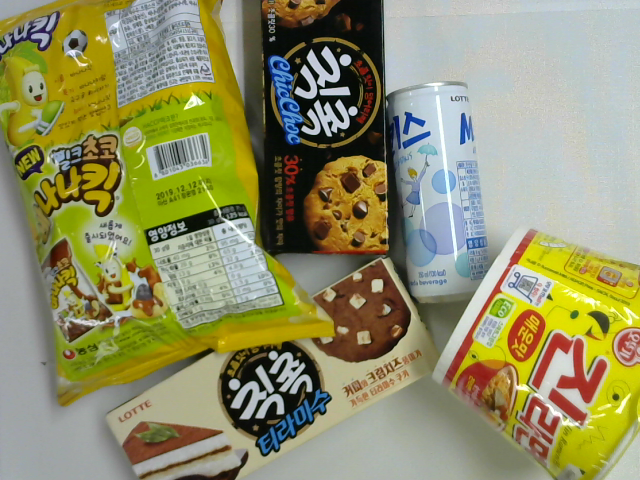Banana_Kick: (1, 1, 335, 409)
Chicchok_Original_2400: (256, 1, 387, 259)
Chicchok_Tiramisu: (103, 254, 440, 480)
Jinlamyeon_Hot_Taste_Large_Cup: (423, 224, 639, 480)
Milkies_250ml: (384, 78, 495, 306)
